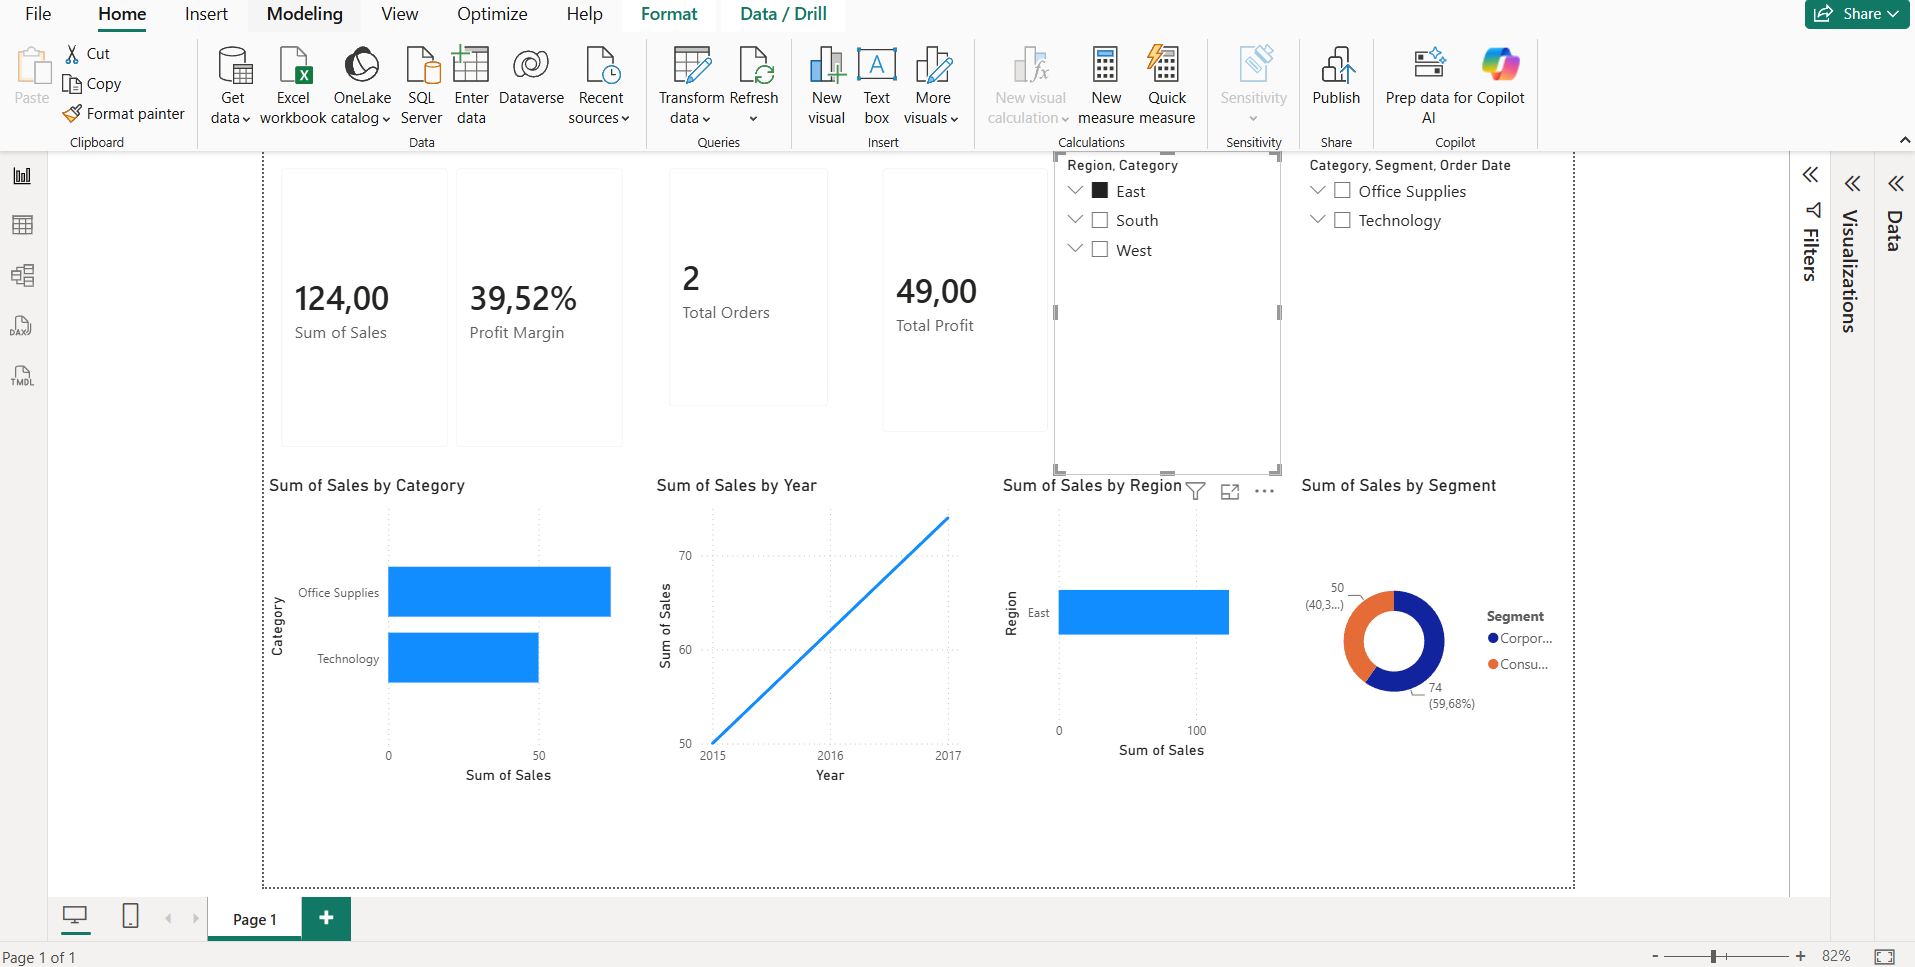

What the dashboard file says about the page in this screenshot:
{"tool":"powerbi","page":{"name":"Page 1","canvas":[1280,720],"ordinal":0},"visuals":[{"type":"cardVisual","fields":{"Data":["Sum(Sample - Superstore.Sales)","Sample - Superstore.Profit Margin"]},"box":[0,0,369.1,307.4],"z":0},{"type":"cardVisual","fields":{"Data":["Sample - Superstore.Total Orders"]},"box":[379.1,0,190.8,267.8],"z":1},{"type":"cardVisual","fields":{"Data":["Sample - Superstore.Total Profit"]},"box":[588.2,0,196.9,292.3],"z":2},{"type":"clusteredBarChart","fields":{"Y":["Sum(Sample - Superstore.Sales)"],"Category":["Sample - Superstore.Category"]},"box":[0,317,369,307],"z":3},{"type":"lineChart","fields":{"Category":["Sample - Superstore.Order Date.Variation.Date Hierarchy.Year","Sample - Superstore.Order Date.Variation.Date Hierarchy.Quarter","Sample - Superstore.Order Date.Variation.Date Hierarchy.Month","Sample - Superstore.Order Date.Variation.Date Hierarchy.Day"],"Y":["Sum(Sample - Superstore.Sales)"]},"box":[379.1,316.7,308.2,306.9],"z":4},{"type":"clusteredBarChart","fields":{"Category":["Sample - Superstore.Region"],"Y":["Sum(Sample - Superstore.Sales)"]},"box":[717.8,316.7,276.4,282.5],"z":5},{"type":"donutChart","fields":{"Y":["Sum(Sample - Superstore.Sales)"],"Category":["Sample - Superstore.Segment"]},"box":[1010.1,316.7,270.2,306.9],"z":6},{"type":"slicer","fields":{"Values":["Sample - Superstore.Region","Sample - Superstore.Category"]},"box":[772.8,0,221.3,316.7],"z":7},{"type":"slicer","fields":{"Values":["Sample - Superstore.Category","Sample - Superstore.Segment","Sample - Superstore.Order Date"]},"box":[1010,0,270,317],"z":8}]}

Visuals, with their boxes on the page's 1280x720 design canvas (x1, y1, x2, y2). These are canvas units, not pixel positions in the 1915x967 screenshot, which may show the page scaled, cropped or inside an application window:
cardVisual - Sum(Sample - Superstore.Sales) x Sample - Superstore.Profit Margin: [0,0,369,307]
cardVisual - Sample - Superstore.Total Orders: [379,0,570,268]
cardVisual - Sample - Superstore.Total Profit: [588,0,785,292]
clusteredBarChart - Sum(Sample - Superstore.Sales) x Sample - Superstore.Category: [0,317,369,624]
lineChart - Sample - Superstore.Order Date.Variation.Date Hierarchy.Year x Sample - Superstore.Order Date.Variation.Date Hierarchy.Quarter: [379,317,687,624]
clusteredBarChart - Sample - Superstore.Region x Sum(Sample - Superstore.Sales): [718,317,994,599]
donutChart - Sum(Sample - Superstore.Sales) x Sample - Superstore.Segment: [1010,317,1280,624]
slicer - Sample - Superstore.Region x Sample - Superstore.Category: [773,0,994,317]
slicer - Sample - Superstore.Category x Sample - Superstore.Segment: [1010,0,1280,317]
